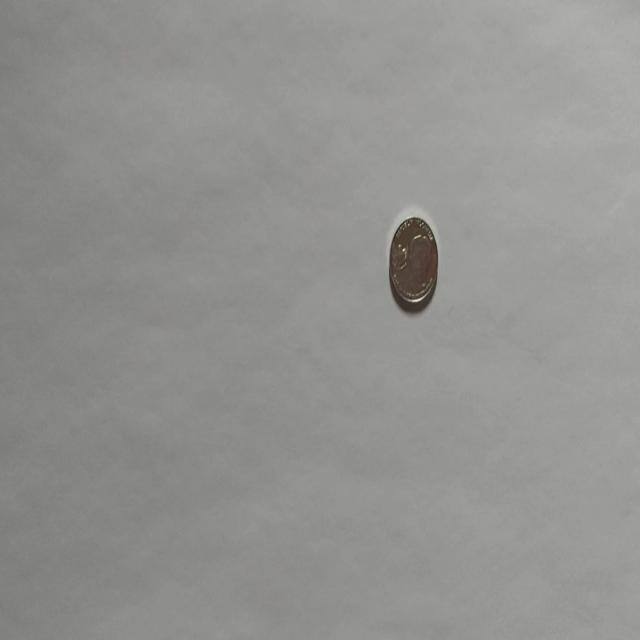seratus rupiah: (388, 214, 438, 310)
